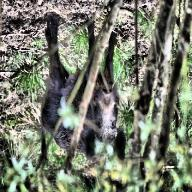boar: (26, 28, 139, 160)
